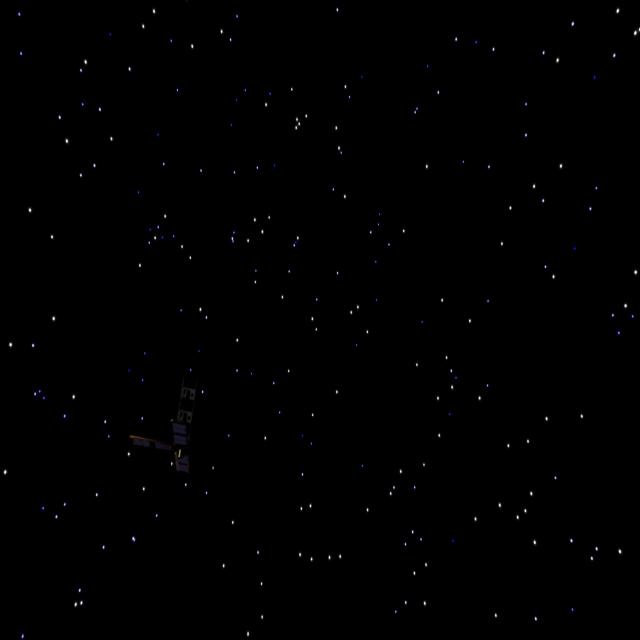medium_debris: (130, 375, 207, 476)
